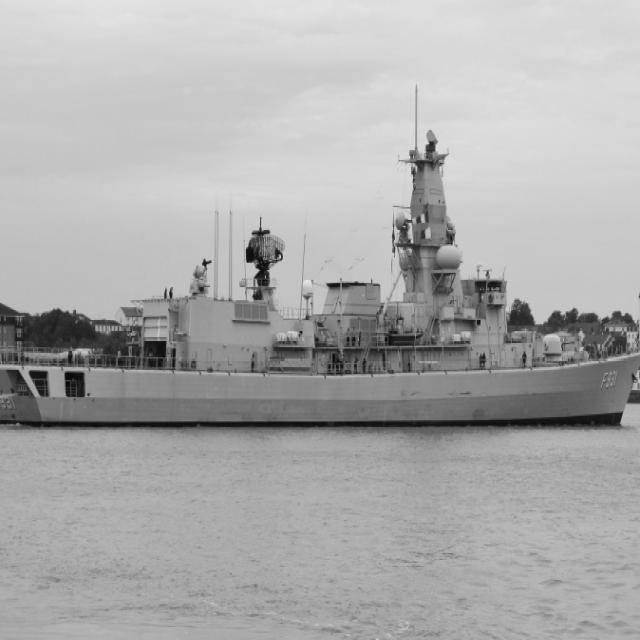Fragata: (1, 88, 640, 427)
